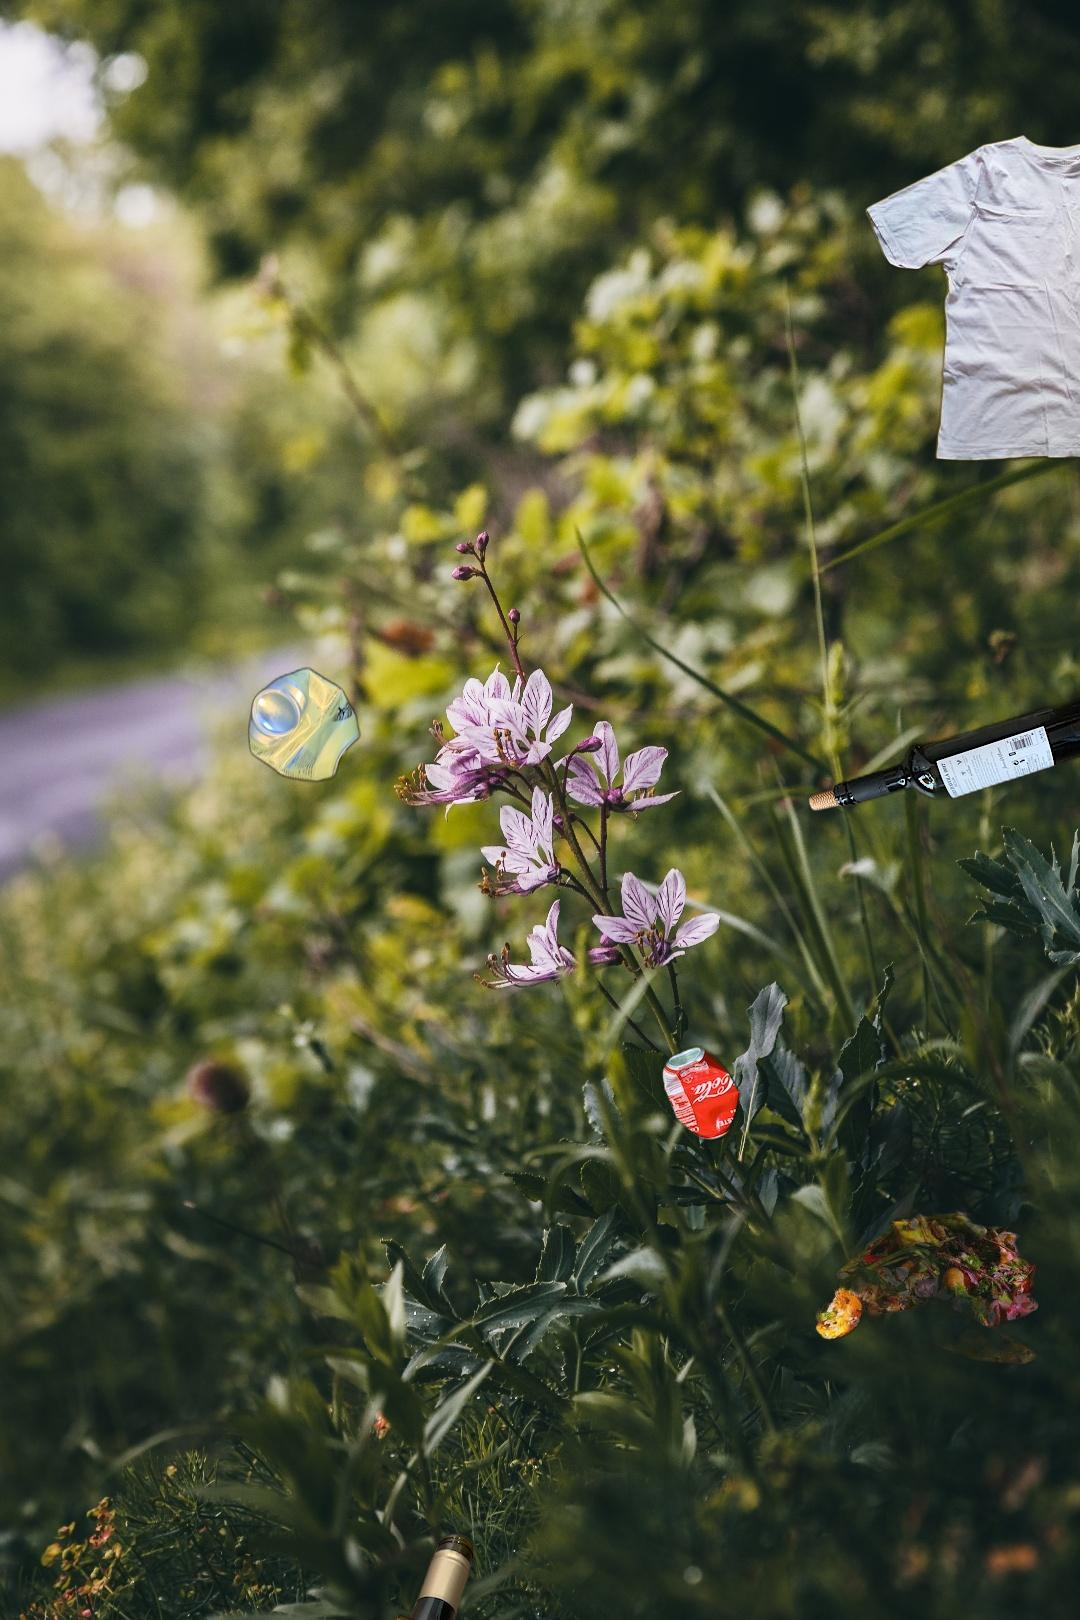biological: (781, 1210, 1080, 1378)
clothes: (861, 123, 1080, 465)
glass: (804, 683, 1080, 818), (187, 1527, 479, 1620), (387, 1609, 644, 1620)
metal-cans: (657, 655, 824, 1145), (245, 661, 364, 788)
